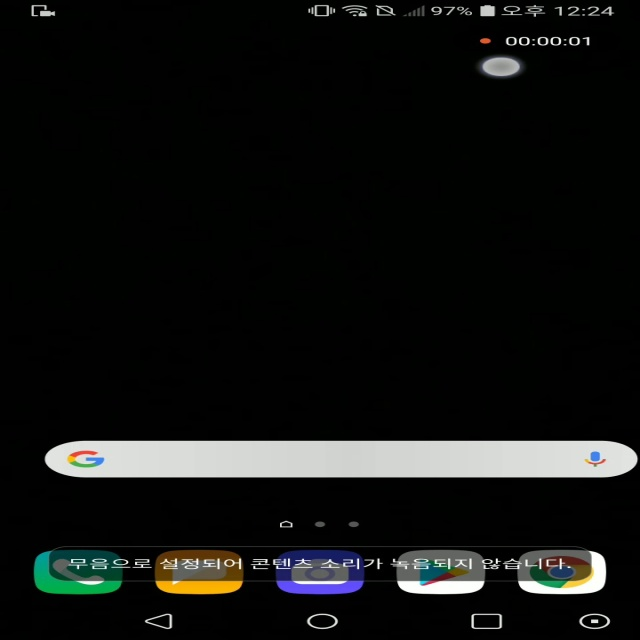Cursor: (480, 56, 525, 78)
